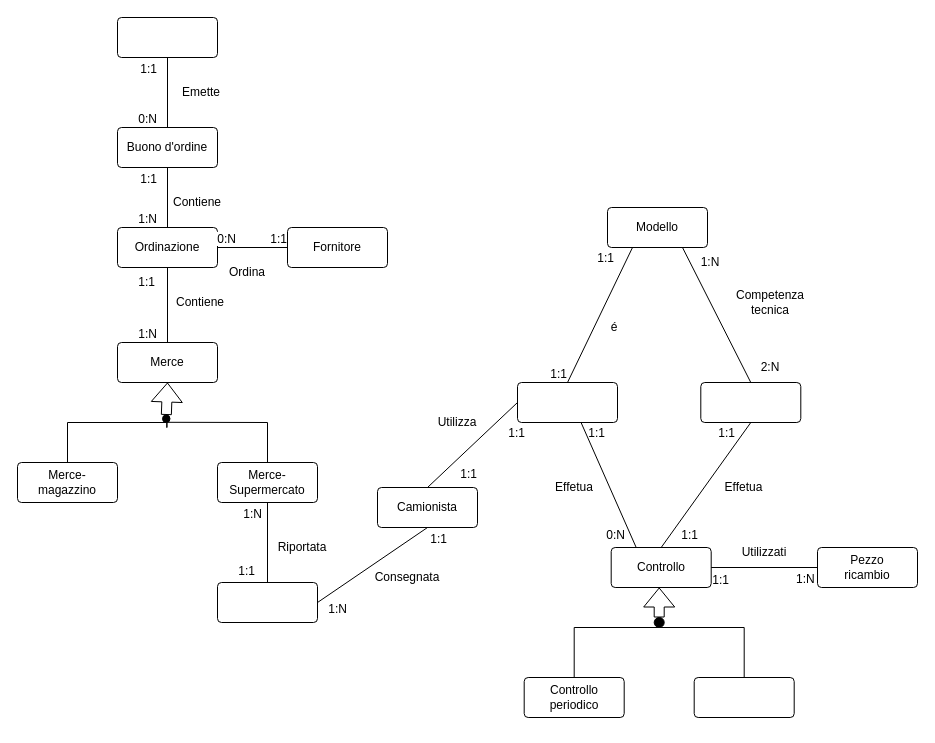
Image size: 935x743. Some labels were removed from this diagram. Here are the shapes that lost their labels. From the top down, the centre of each, then its label:
At point 167,37: "Responsabile".
At point 567,402: "Automezzo".
At point 750,402: "Meccanico".
At point 267,602: "Bolla".
At point 743,697: "Controllo occasionale".
